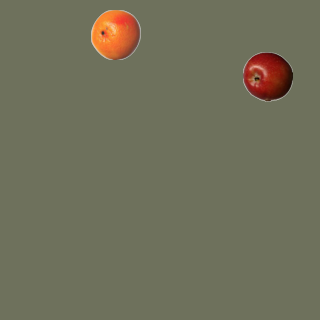Apple Braeburn: (242, 51, 292, 101)
Grapefruit Pink: (90, 9, 140, 59)
